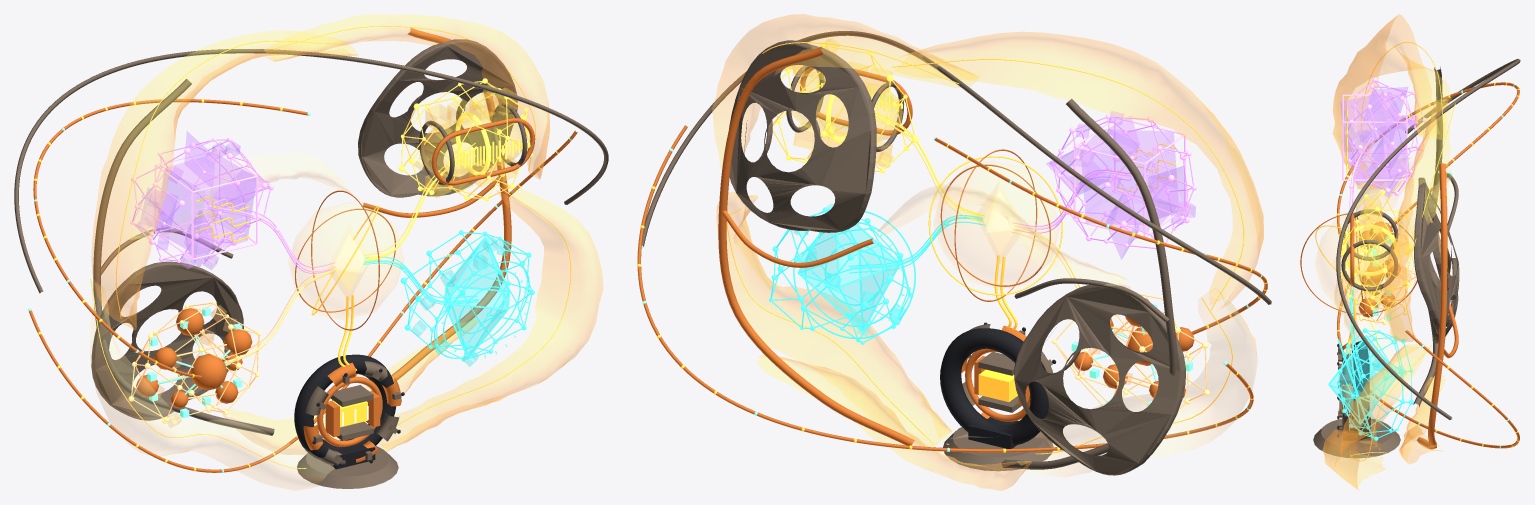
The model's file is zaenia-se-fusion.glb.
The picture shows the model from 3 angles, left to right: view 1: azimuth 30°, elevation 25°; view 2: azimuth 150°, elevation 25°; view 3: azimuth 270°, elevation 25°; orthographic projection. The views are drawn at different scales.
Parts seen in each view (by area): view 1: Faceted_Quartz_f4ad55, Open_Cell_Metal_887665, Faceted_Quartz_ffe2b4, Conductor_Crystal_And_Cage_ffc572, Study_Geometry_b47cff, Talk_Geometry_ffb347, Gate_Housing_And_Jaws_887665, Gimbal_Tracks_b97538, Gimbal_Tracks_887665, Seek_Geometry_40e0e8, Keep_Geometry_b97538, Gate_Housing_And_Jaws_292a30 (+22 smaller); view 2: Faceted_Quartz_f4ad55, Open_Cell_Metal_887665, Faceted_Quartz_ffe2b4, Conductor_Crystal_And_Cage_ffc572, Study_Geometry_b47cff, Open_Cell_Metal_b97538, Gate_Housing_And_Jaws_292a30, Gimbal_Tracks_b97538, Seek_Geometry_40e0e8, Talk_Geometry_ffb347, Gimbal_Tracks_887665, Gate_Housing_And_Jaws_887665 (+20 smaller); view 3: Faceted_Quartz_f4ad55, Open_Cell_Metal_887665, Study_Geometry_b47cff, Gate_Housing_And_Jaws_887665, Talk_Geometry_ffb347, Gimbal_Tracks_887665, Open_Cell_Metal_b97538, Faceted_Quartz_ffe2b4, Gimbal_Tracks_b97538, Conductor_Crystal_And_Cage_ffc572, Seek_Geometry_40e0e8, Study_Cells_And_Nerves_study_nerves (+23 smaller).
Boxes of the visible parts, x1=… form: Faceted_Quartz_f4ad55: x1=91, y1=14, x2=603, y2=454; Open_Cell_Metal_887665: x1=91, y1=39, x2=517, y2=435; Faceted_Quartz_ffe2b4: x1=90, y1=152, x2=352, y2=490; Conductor_Crystal_And_Cage_ffc572: x1=288, y1=202, x2=403, y2=319; Study_Geometry_b47cff: x1=140, y1=131, x2=269, y2=268; Talk_Geometry_ffb347: x1=420, y1=87, x2=521, y2=197; Gate_Housing_And_Jaws_887665: x1=297, y1=361, x2=401, y2=488; Gimbal_Tracks_b97538: x1=29, y1=99, x2=577, y2=472; Gimbal_Tracks_887665: x1=14, y1=49, x2=608, y2=293; Seek_Geometry_40e0e8: x1=446, y1=240, x2=508, y2=355; Keep_Geometry_b97538: x1=136, y1=308, x2=252, y2=408; Gate_Housing_And_Jaws_292a30: x1=294, y1=354, x2=404, y2=469; Faceted_Quartz_f4ad55: x1=712, y1=14, x2=1263, y2=490; Open_Cell_Metal_887665: x1=729, y1=40, x2=1185, y2=475; Faceted_Quartz_ffe2b4: x1=877, y1=184, x2=1257, y2=477; Conductor_Crystal_And_Cage_ffc572: x1=934, y1=161, x2=1059, y2=288; Study_Geometry_b47cff: x1=1046, y1=116, x2=1186, y2=259; Open_Cell_Metal_b97538: x1=718, y1=47, x2=914, y2=445; Gate_Housing_And_Jaws_292a30: x1=940, y1=322, x2=1055, y2=448; Gimbal_Tracks_b97538: x1=637, y1=125, x2=1267, y2=452; Seek_Geometry_40e0e8: x1=800, y1=225, x2=897, y2=327; Talk_Geometry_ffb347: x1=791, y1=60, x2=902, y2=167; Gimbal_Tracks_887665: x1=642, y1=31, x2=1271, y2=304; Gate_Housing_And_Jaws_887665: x1=943, y1=324, x2=1053, y2=471; Faceted_Quartz_f4ad55: x1=1322, y1=14, x2=1451, y2=490; Open_Cell_Metal_887665: x1=1413, y1=66, x2=1459, y2=406; Study_Geometry_b47cff: x1=1340, y1=87, x2=1409, y2=197; Gate_Housing_And_Jaws_887665: x1=1313, y1=346, x2=1400, y2=458; Talk_Geometry_ffb347: x1=1347, y1=197, x2=1392, y2=303; Gimbal_Tracks_887665: x1=1336, y1=59, x2=1520, y2=419; Open_Cell_Metal_b97538: x1=1417, y1=163, x2=1458, y2=449; Faceted_Quartz_ffe2b4: x1=1334, y1=158, x2=1455, y2=446; Gimbal_Tracks_b97538: x1=1337, y1=82, x2=1519, y2=448; Conductor_Crystal_And_Cage_ffc572: x1=1315, y1=215, x2=1393, y2=315; Seek_Geometry_40e0e8: x1=1331, y1=339, x2=1393, y2=419; Study_Cells_And_Nerves_study_nerves: x1=1346, y1=81, x2=1424, y2=193.
Size of the model in its own units: 8.63 by 6.47 by 3.42.
